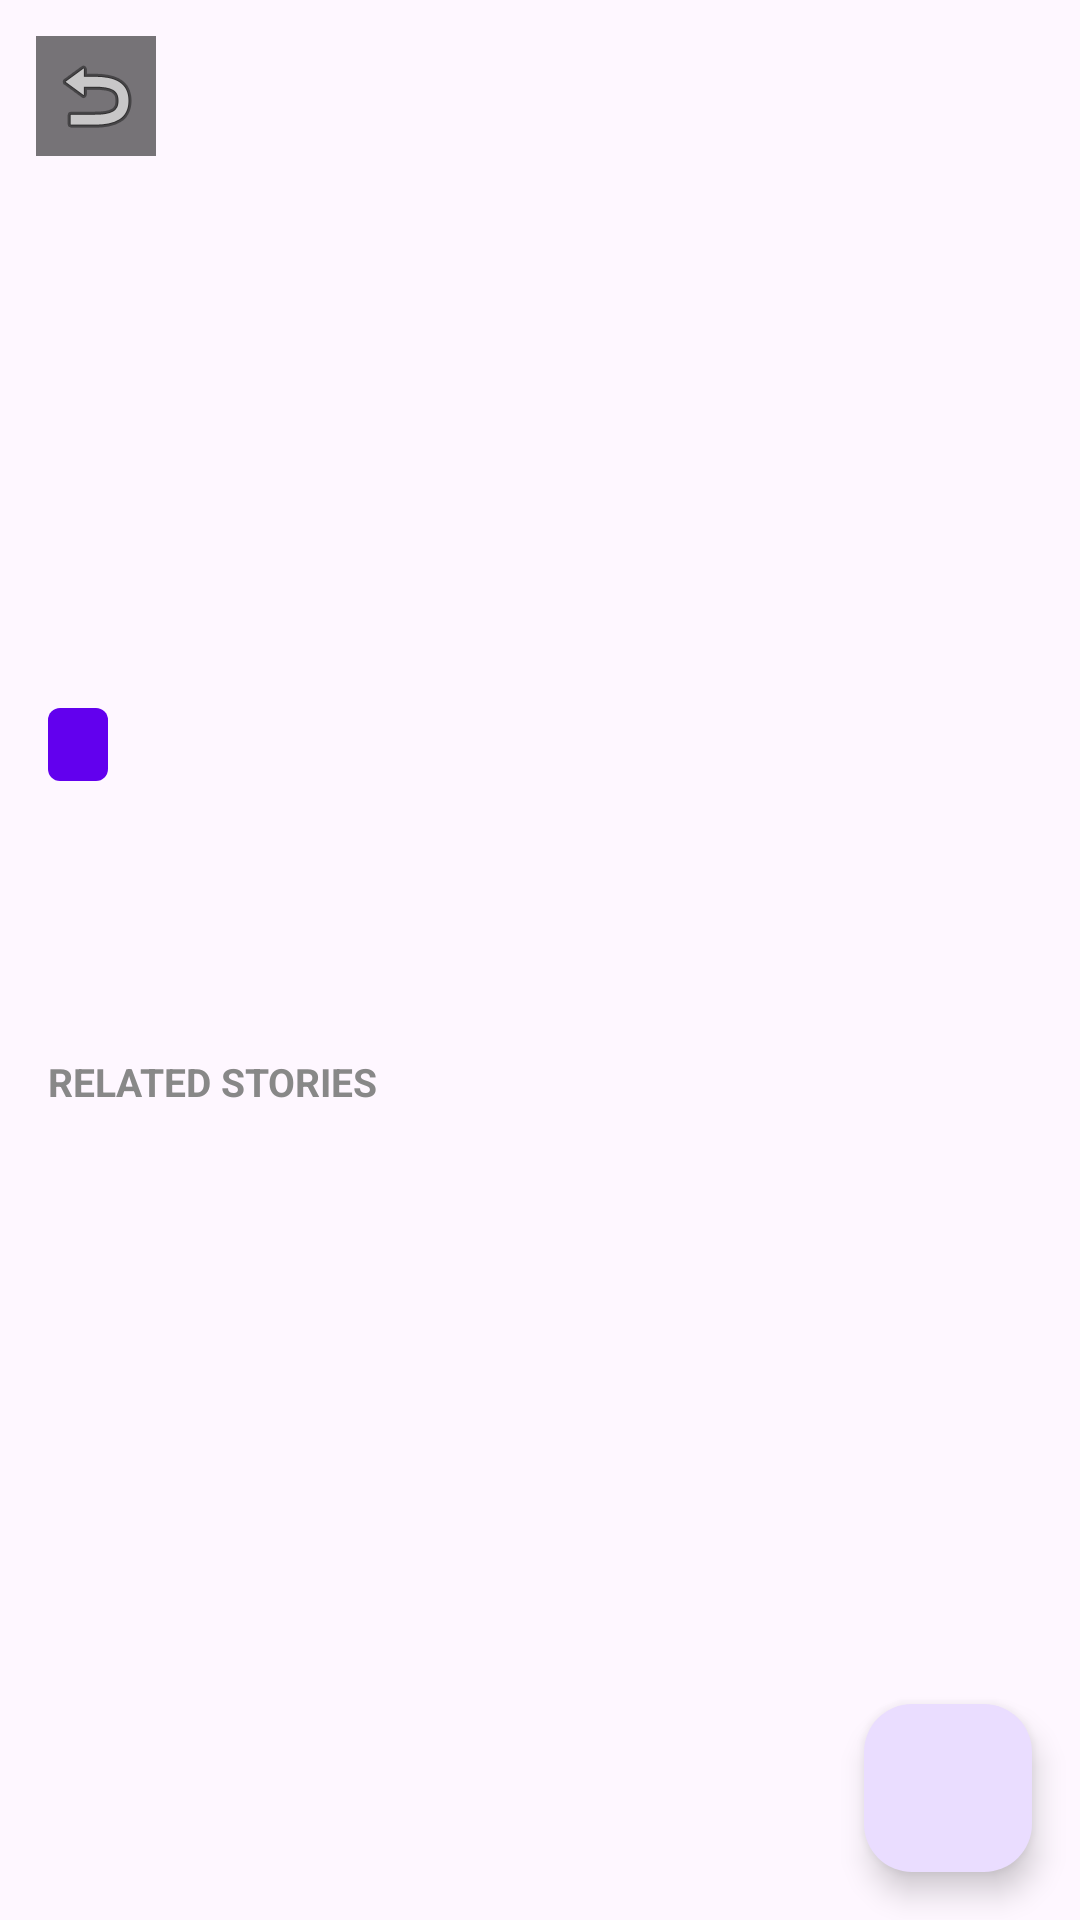

Where to tap for icons on this 1080x1920 app screen, as (x,y):
Back: (96,96)
